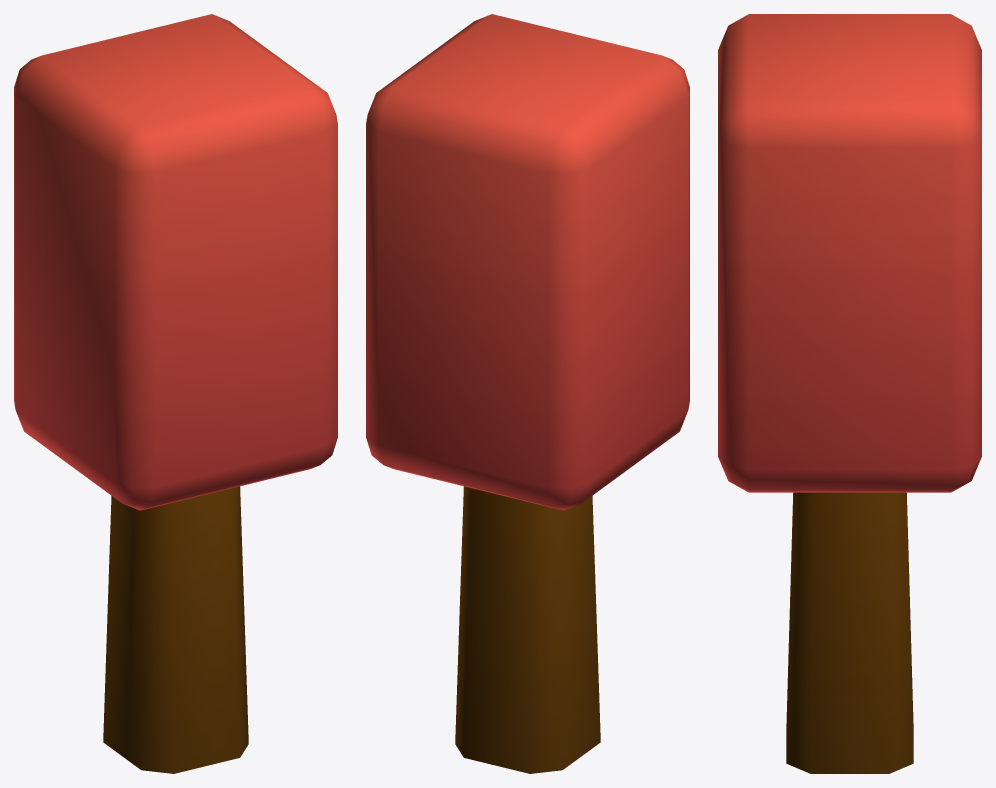
The model's file is Tree_E_3_.glb.
The picture shows the model from 3 angles, left to right: view 1: azimuth 30°, elevation 25°; view 2: azimuth 150°, elevation 25°; view 3: azimuth 270°, elevation 25°; orthographic projection. The views are drawn at different scales.
Parts seen in each view (by area): view 1: Tree_E_3; view 2: Tree_E_3; view 3: Tree_E_3.
Boxes of the visible parts, x1,y1,x2,y2 form: Tree_E_3: (14, 14, 337, 773); Tree_E_3: (366, 14, 689, 773); Tree_E_3: (718, 14, 981, 773).
Bounding box in the file's own units: 1.21 × 3.48 × 1.21.
Materials: 1 (1 with a texture image).
